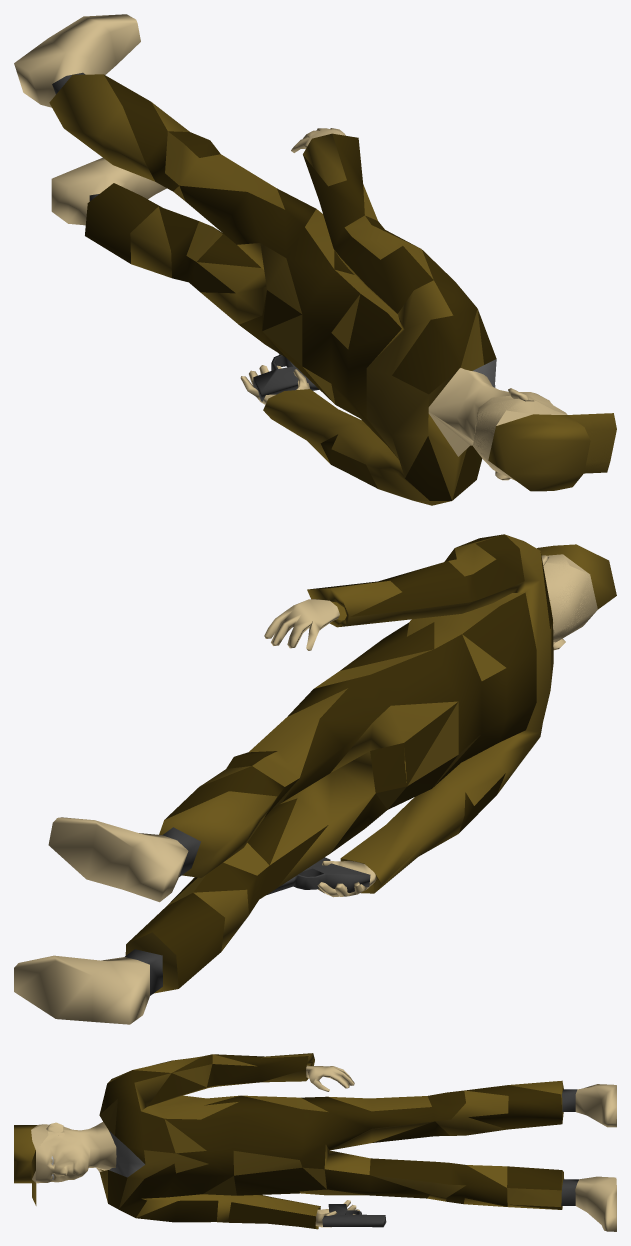
The model's file is officer.dae.
3 views of the same model, one above another, from view 1: azimuth 30°, elevation 25°; view 2: azimuth 150°, elevation 25°; view 3: azimuth 270°, elevation 25° (orthographic). The views are drawn at different scales.
Visible parts, largest first — view 1: coords_ME_ID19_MA_Color_D17, coords_ME_ID39_MA_Color_D21, coords_ME_ID167_MA_Color_D21, coords_ME_ID89_MA_Color_D17, coords_ME_ID45_MA_Shape_004, coords_ME_ID419_MA_Color_D17, coords_ME_ID71_MA_Color_D17, coords_ME_ID107_MA_Color_D21, coords_ME_ID33_MA_Shape_004, coords_ME_ID53_MA_Shape_004, coords_ME_ID223_MA_Color_D17, coords_ME_ID161_MA_Color_D21 (+14 smaller); view 2: coords_ME_ID39_MA_Color_D21, coords_ME_ID19_MA_Color_D17, coords_ME_ID89_MA_Color_D17, coords_ME_ID53_MA_Shape_004, coords_ME_ID45_MA_Shape_004, coords_ME_ID167_MA_Color_D21, coords_ME_ID71_MA_Color_D17, coords_ME_ID161_MA_Color_D21, coords_ME_ID223_MA_Color_D17, coords_ME_ID181_MA_Shape_004, coords_ME_ID65_MA_Color_D21, coords_ME_ID125_MA_Shape_004 (+16 smaller); view 3: coords_ME_ID39_MA_Color_D21, coords_ME_ID19_MA_Color_D17, coords_ME_ID89_MA_Color_D17, coords_ME_ID33_MA_Shape_004, coords_ME_ID107_MA_Color_D21, coords_ME_ID119_MA_Color_D21, coords_ME_ID59_MA_Color_D21, coords_ME_ID71_MA_Color_D17, coords_ME_ID167_MA_Color_D21, coords_ME_ID217_MA_Color_D21, coords_ME_ID53_MA_Shape_004, coords_ME_ID247_MA_Color_D21 (+26 smaller).
Part boxes in pixels (<box>): coords_ME_ID19_MA_Color_D17: <box>263,133,483,500</box>; coords_ME_ID39_MA_Color_D21: <box>168,131,401,459</box>; coords_ME_ID167_MA_Color_D21: <box>303,133,433,313</box>; coords_ME_ID89_MA_Color_D17: <box>130,206,301,324</box>; coords_ME_ID45_MA_Shape_004: <box>14,14,140,107</box>; coords_ME_ID419_MA_Color_D17: <box>488,414,590,491</box>; coords_ME_ID71_MA_Color_D17: <box>49,74,189,181</box>; coords_ME_ID107_MA_Color_D21: <box>392,250,496,394</box>; coords_ME_ID33_MA_Shape_004: <box>428,368,567,480</box>; coords_ME_ID53_MA_Shape_004: <box>51,158,166,225</box>; coords_ME_ID223_MA_Color_D17: <box>165,131,284,209</box>; coords_ME_ID161_MA_Color_D21: <box>85,183,161,263</box>; coords_ME_ID39_MA_Color_D21: <box>226,592,536,802</box>; coords_ME_ID19_MA_Color_D17: <box>307,534,553,893</box>; coords_ME_ID89_MA_Color_D17: <box>125,701,457,993</box>; coords_ME_ID53_MA_Shape_004: <box>14,955,149,1024</box>; coords_ME_ID45_MA_Shape_004: <box>48,817,188,902</box>; coords_ME_ID167_MA_Color_D21: <box>310,534,524,616</box>; coords_ME_ID71_MA_Color_D17: <box>159,766,276,877</box>; coords_ME_ID161_MA_Color_D21: <box>127,893,224,988</box>; coords_ME_ID223_MA_Color_D17: <box>249,688,347,786</box>; coords_ME_ID181_MA_Shape_004: <box>543,554,597,642</box>; coords_ME_ID65_MA_Color_D21: <box>193,825,328,914</box>; coords_ME_ID125_MA_Shape_004: <box>264,599,339,650</box>; coords_ME_ID39_MA_Color_D21: <box>119,1090,465,1217</box>; coords_ME_ID19_MA_Color_D17: <box>99,1053,320,1228</box>; coords_ME_ID89_MA_Color_D17: <box>324,1121,563,1209</box>; coords_ME_ID33_MA_Shape_004: <box>35,1122,116,1183</box>; coords_ME_ID107_MA_Color_D21: <box>99,1070,175,1164</box>; coords_ME_ID119_MA_Color_D21: <box>369,1158,507,1206</box>; coords_ME_ID59_MA_Color_D21: <box>464,1085,562,1129</box>; coords_ME_ID71_MA_Color_D17: <box>435,1080,563,1135</box>; coords_ME_ID167_MA_Color_D21: <box>156,1054,308,1087</box>; coords_ME_ID217_MA_Color_D21: <box>234,1167,326,1195</box>; coords_ME_ID53_MA_Shape_004: <box>575,1176,616,1231</box>; coords_ME_ID247_MA_Color_D21: <box>324,1169,430,1198</box>.
Bounding box in the file's own units: 3.74 × 6.39 × 18.99.
